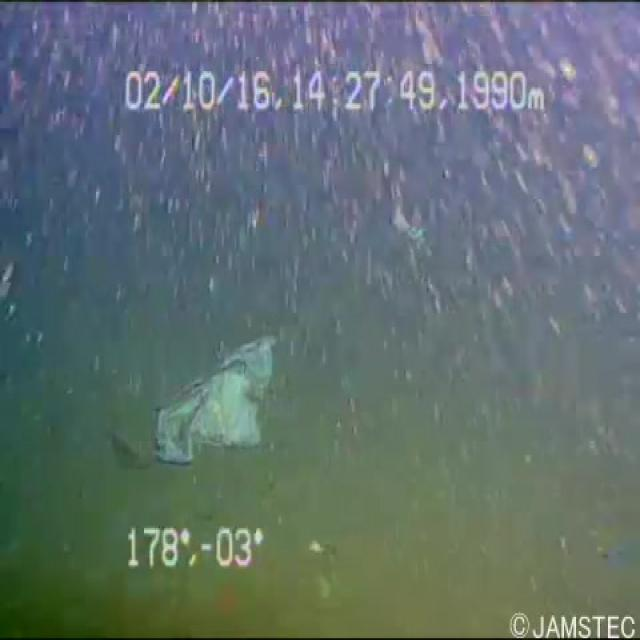plastic: (132, 302, 285, 464), (372, 183, 431, 274)
